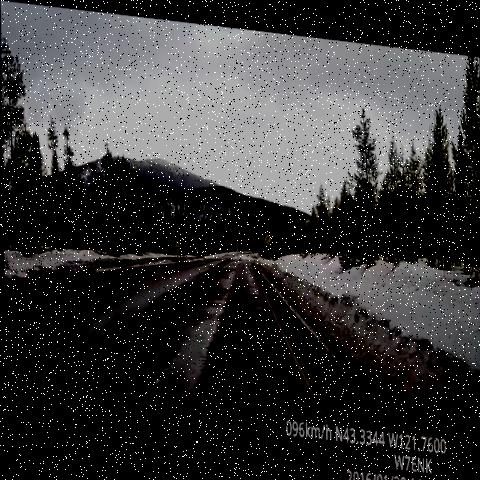pothole: (198, 273, 232, 306), (193, 301, 213, 321), (219, 257, 235, 275)
